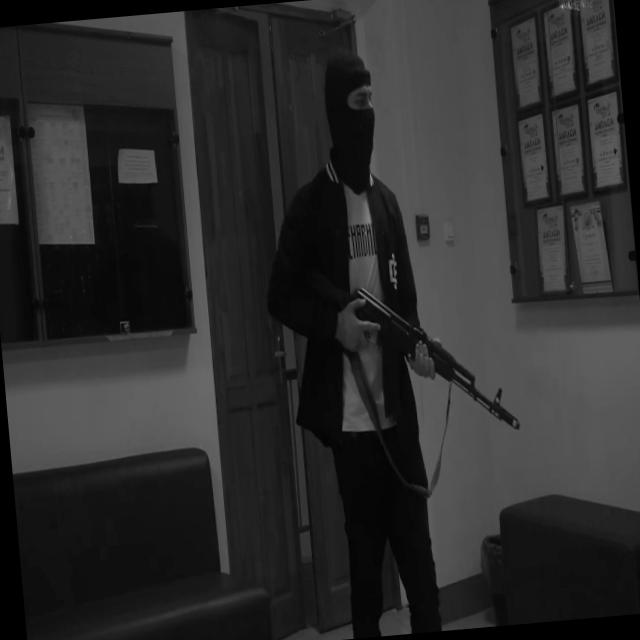gun: (303, 250, 522, 448)
person with a gun: (245, 38, 538, 640)
